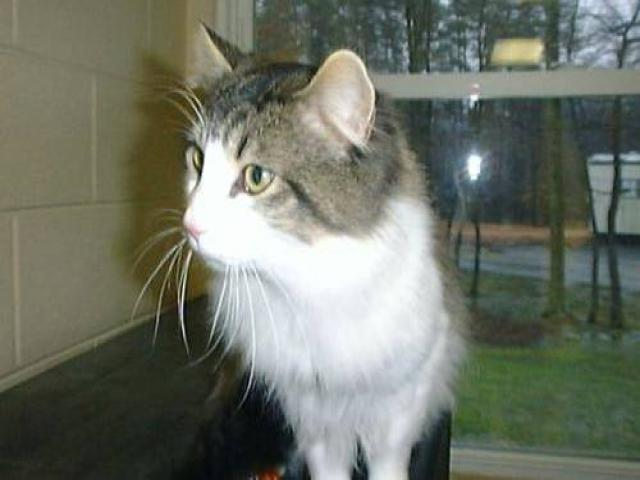cat: (119, 16, 480, 480)
